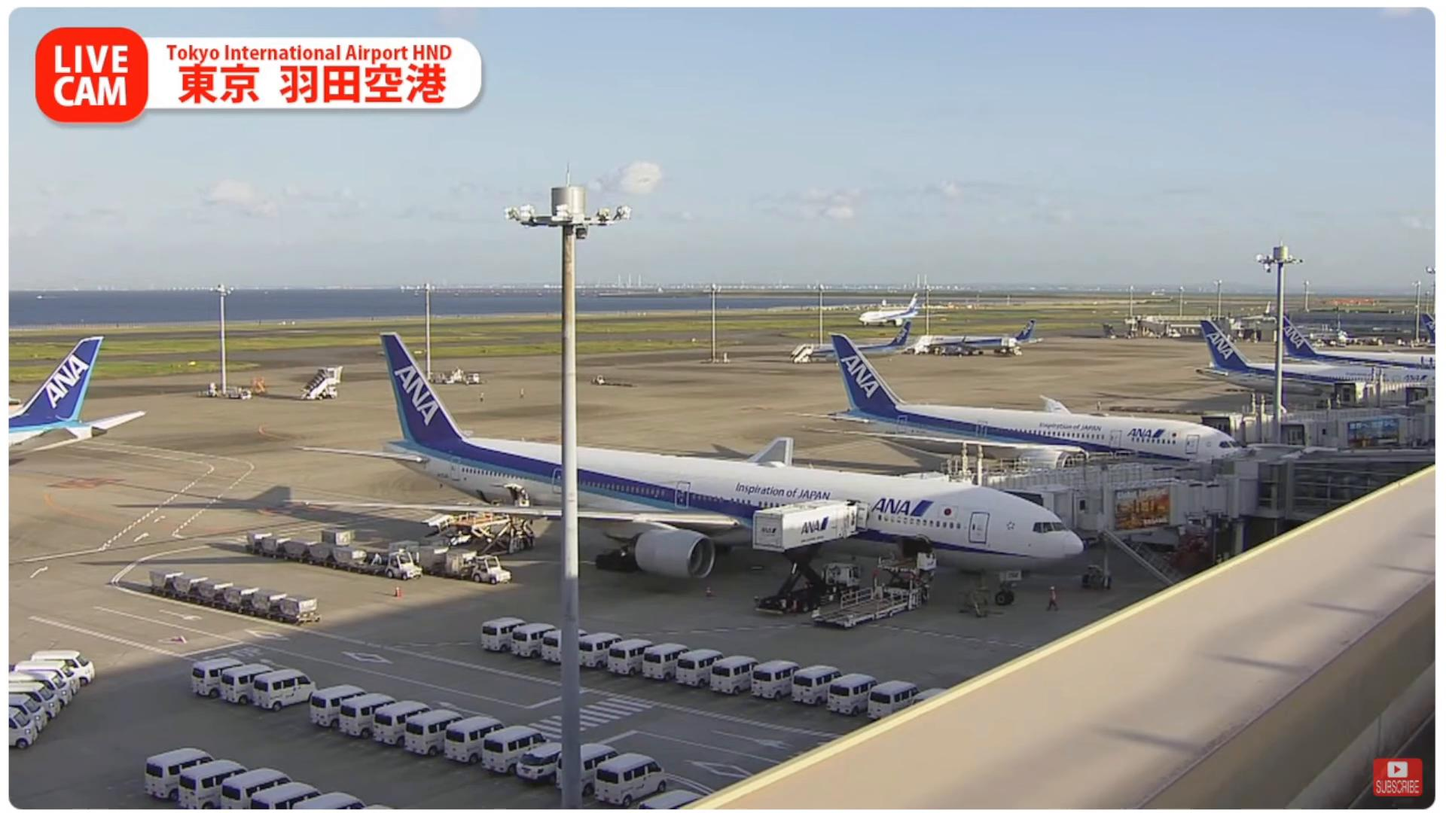Aerobridge: (990, 474, 1217, 523), (903, 458, 1204, 486)
Airplane: (290, 334, 1085, 584)
Catering: (752, 497, 860, 615)
Dolly: (148, 566, 320, 624), (321, 525, 473, 578), (246, 531, 386, 576)
JCPL: (817, 551, 941, 626), (418, 510, 538, 567)
Skyloader: (419, 512, 479, 546)
Tractor: (470, 552, 513, 584), (384, 551, 423, 580)
Window: (1253, 443, 1435, 520)
